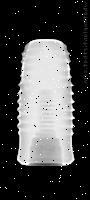Cowellmedi: (17, 38, 75, 166)
